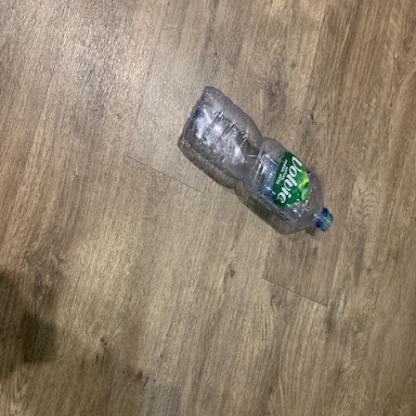trash: (172, 85, 338, 238)
